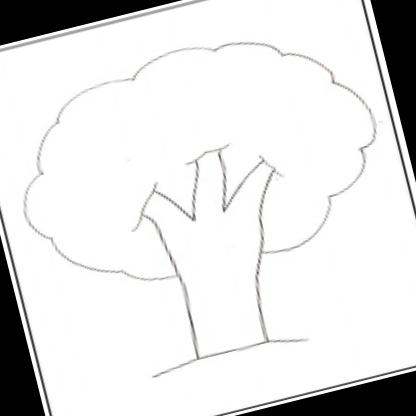branch_cut: (131, 138, 284, 249)
crown_cloud: (0, 9, 400, 312)
root_none: (146, 314, 316, 407)
trunk_straight: (177, 258, 280, 356)
